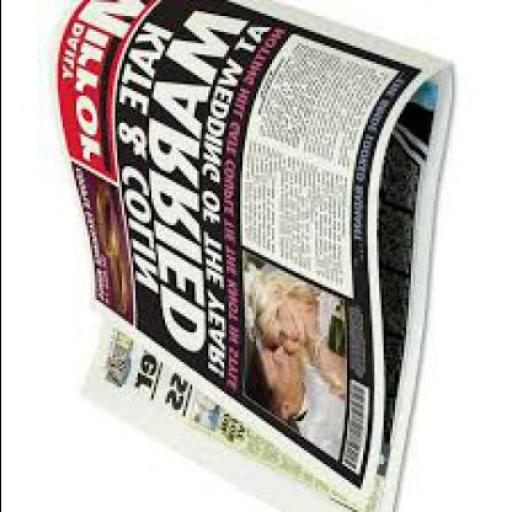paper: (47, 0, 451, 510)
